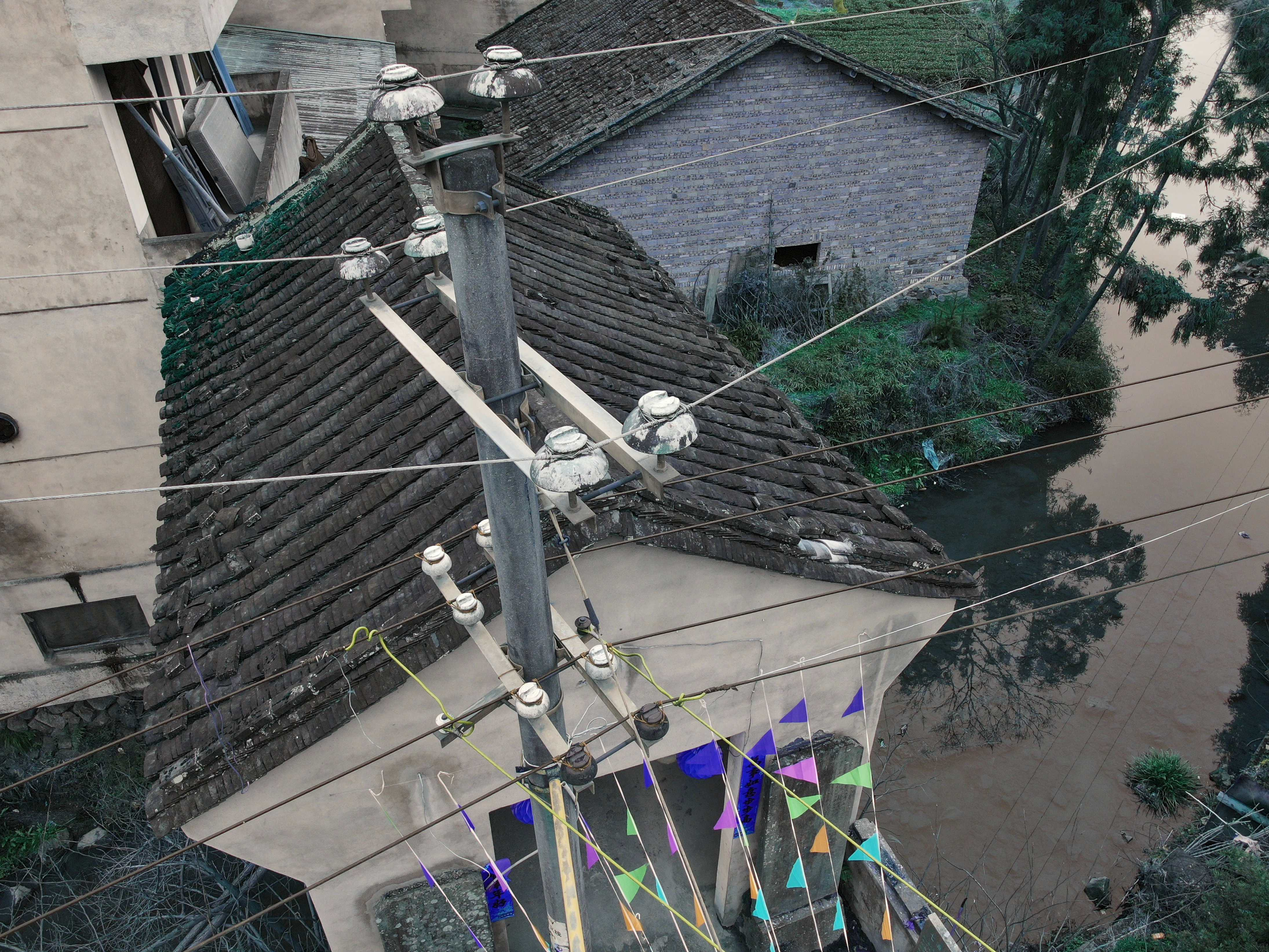severe_soiling_no_discharge_whole: (525, 425, 612, 494), (618, 390, 702, 457), (362, 63, 446, 128), (464, 44, 543, 102), (331, 237, 391, 284), (406, 216, 450, 259), (511, 682, 553, 718), (451, 592, 488, 626), (584, 644, 618, 680), (419, 547, 454, 576), (474, 520, 492, 548)
